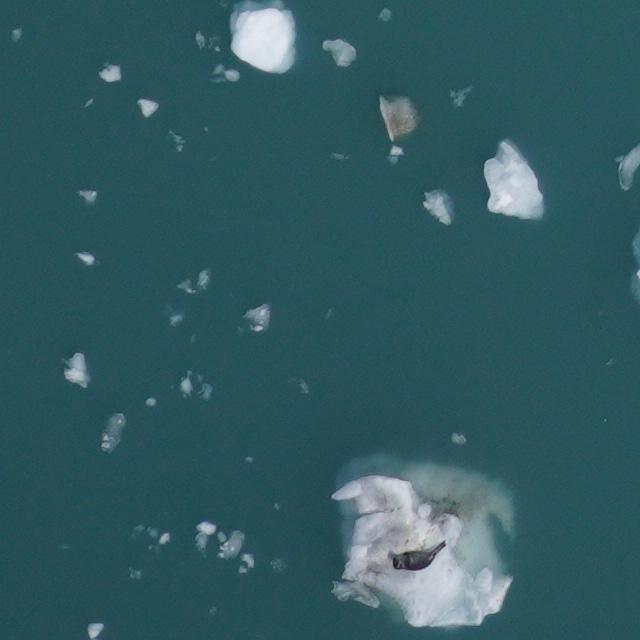seal: (389, 542, 452, 576)
